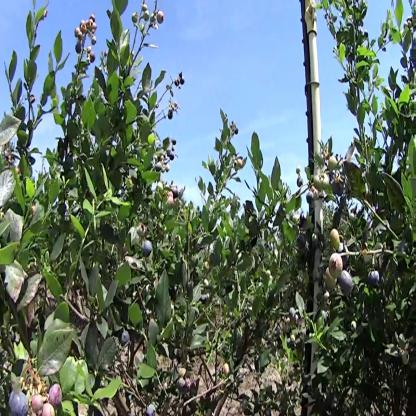intermediate: (47, 384, 66, 407), (30, 392, 47, 416), (43, 403, 58, 416), (185, 374, 193, 395)
mature: (7, 388, 30, 416), (340, 271, 355, 298), (140, 239, 156, 260), (119, 328, 134, 348), (367, 270, 383, 287), (146, 403, 158, 416)
young: (329, 253, 344, 278), (329, 226, 341, 253), (218, 362, 232, 382)
